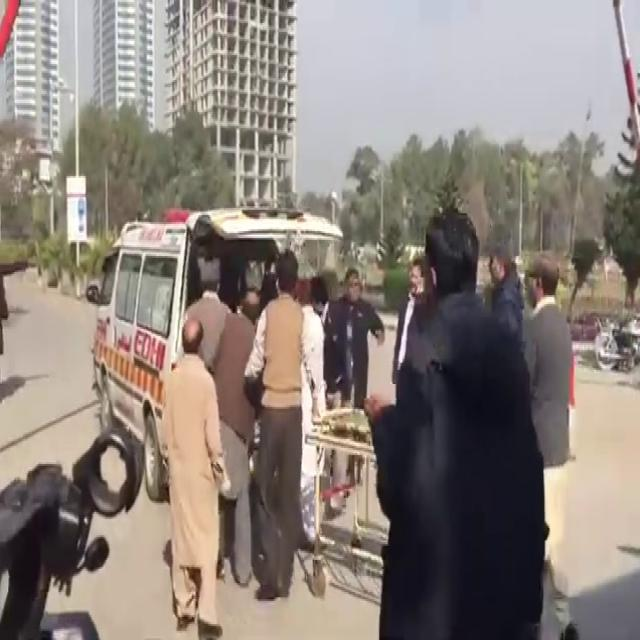ambulance: (96, 192, 314, 476)
